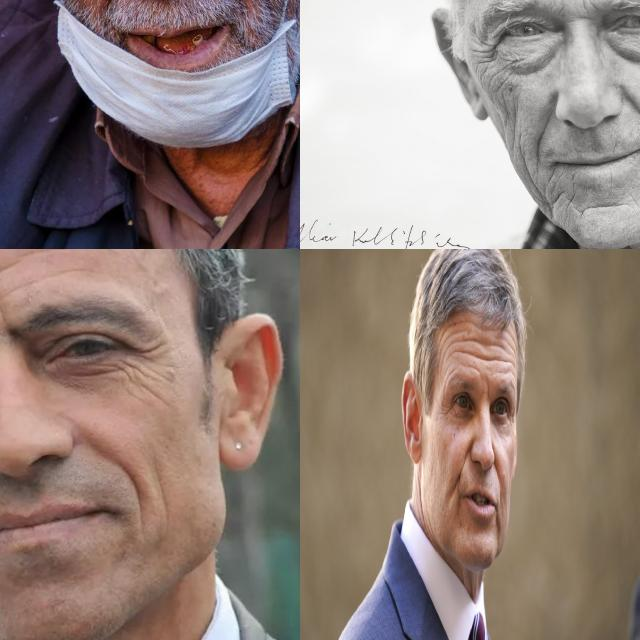chin: (580, 196, 626, 216), (551, 186, 571, 207)
crows_feet: (468, 33, 497, 73), (130, 339, 164, 373), (440, 396, 451, 422)
forehead: (9, 249, 61, 261), (460, 318, 474, 357), (490, 338, 505, 371), (441, 325, 458, 353), (476, 330, 487, 370), (507, 334, 516, 374)
frown_line: (0, 295, 14, 326), (571, 0, 594, 12), (485, 378, 491, 398)
gummy_smile: (112, 454, 146, 508), (534, 119, 550, 165), (624, 90, 640, 127), (458, 440, 468, 479), (493, 453, 502, 479)
masseter: (499, 92, 528, 154), (519, 162, 545, 200)
